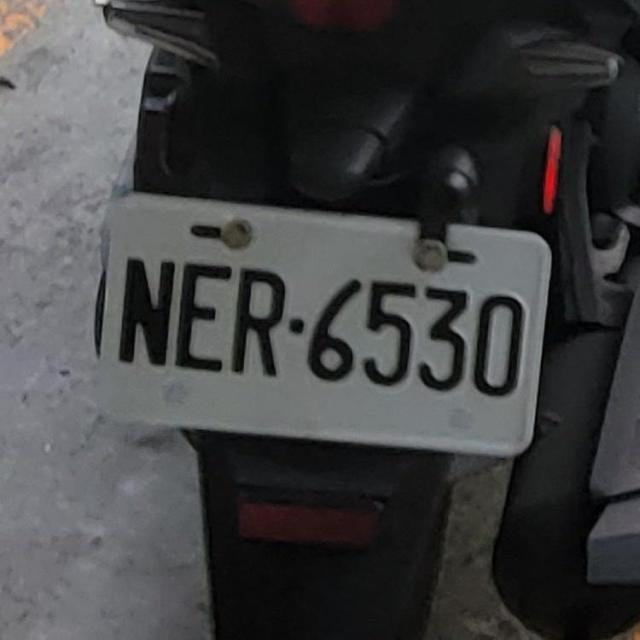W: (72, 161, 559, 484)
